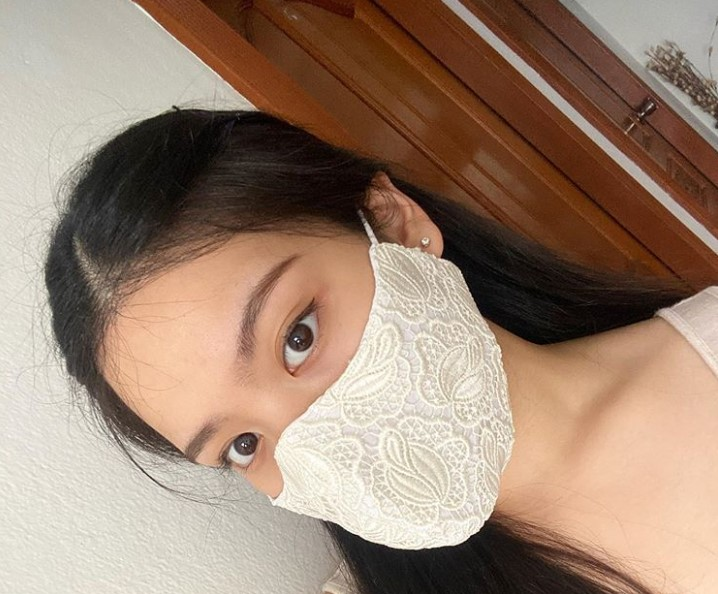face_with_mask: (41, 103, 520, 554)
